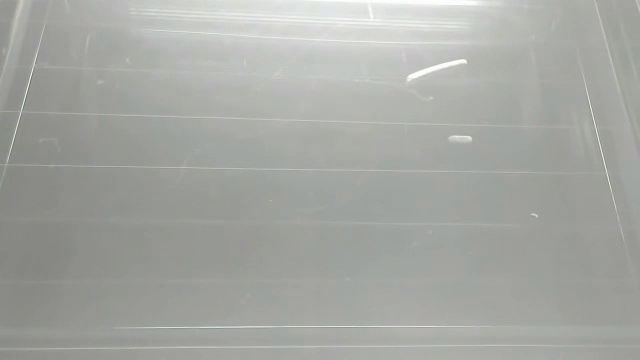alpha: (401, 56, 470, 85), (446, 131, 474, 149)
